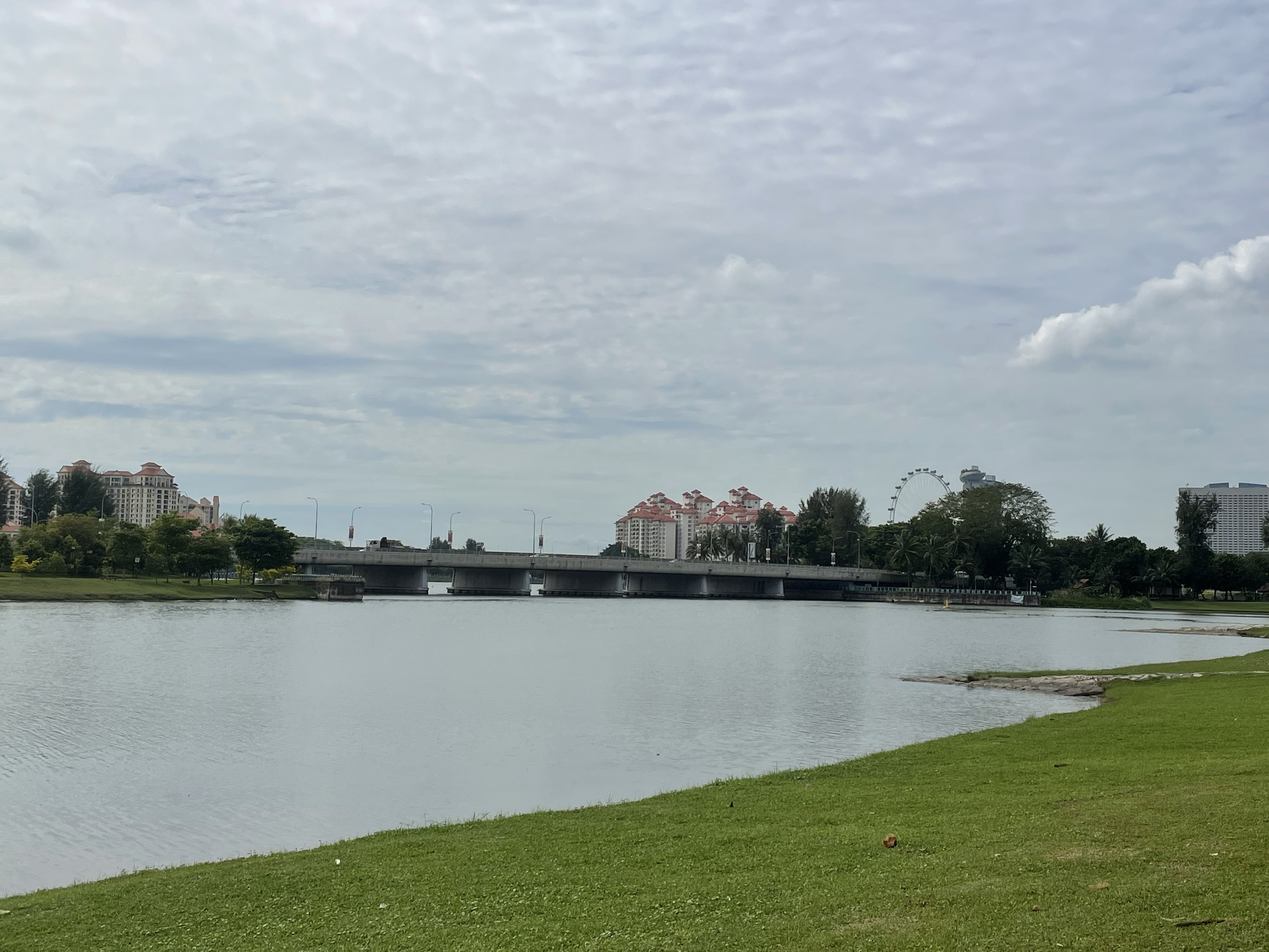drone_other: (948, 515, 966, 526)
